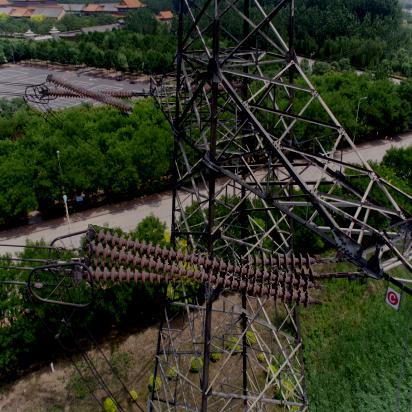insulator: (83, 239, 329, 300), (46, 82, 136, 108)
